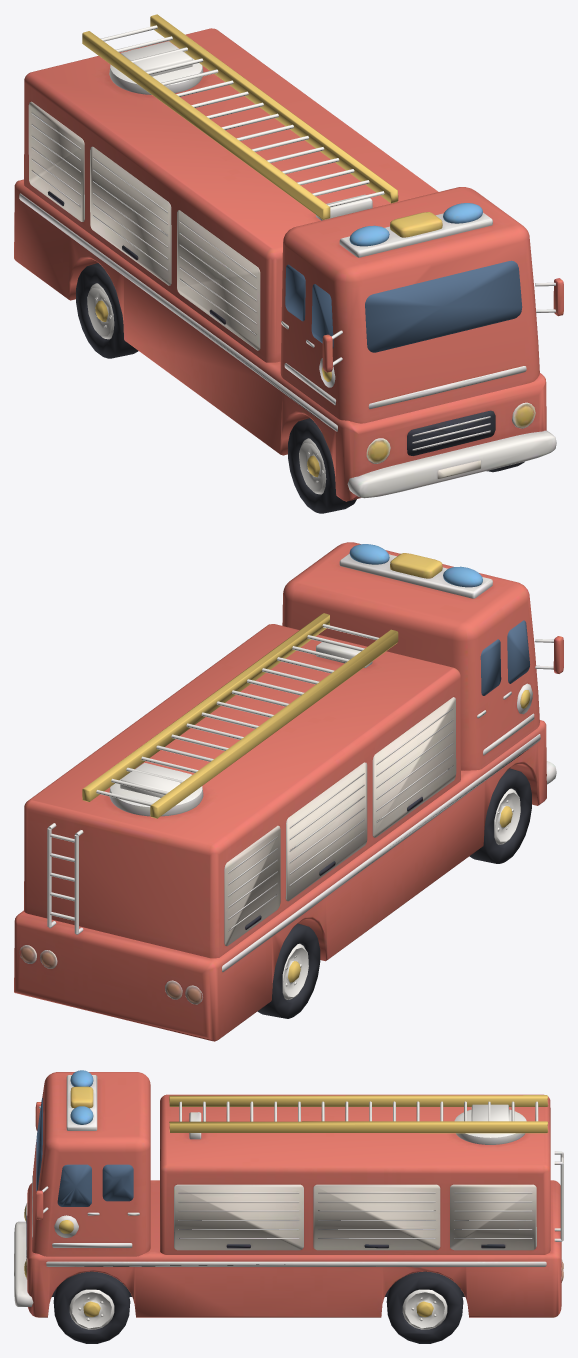
File: n_fire.glb
3 renders of one model, top to bottom at view 1: azimuth 30°, elevation 25°; view 2: azimuth 150°, elevation 25°; view 3: azimuth 270°, elevation 25°, orthographic. The views are drawn at different scales.
Visible parts, largest first — view 1: fire-truck_body, fire-truck_ladder, fire-truck_windows, fire-truck_wheel_fr, fire-truck_wheel_rr; view 2: fire-truck_body, fire-truck_ladder, fire-truck_wheel_rr, fire-truck_wheel_fr, fire-truck_windows; view 3: fire-truck_body, fire-truck_ladder, fire-truck_wheel_fl, fire-truck_wheel_rl, fire-truck_windows.
Boxes of the visible parts, x1=… form: fire-truck_body: x1=14, y1=28, x2=563, y2=501; fire-truck_ladder: x1=82, y1=14, x2=398, y2=219; fire-truck_windows: x1=285, y1=260, x2=522, y2=352; fire-truck_wheel_fr: x1=288, y1=418, x2=356, y2=513; fire-truck_wheel_rr: x1=76, y1=263, x2=138, y2=358; fire-truck_body: x1=14, y1=542, x2=563, y2=1041; fire-truck_ladder: x1=82, y1=613, x2=398, y2=818; fire-truck_wheel_rr: x1=257, y1=923, x2=320, y2=1018; fire-truck_wheel_fr: x1=469, y1=768, x2=531, y2=863; fire-truck_windows: x1=480, y1=620, x2=529, y2=695; fire-truck_body: x1=14, y1=1070, x2=563, y2=1317; fire-truck_ladder: x1=169, y1=1095, x2=548, y2=1133; fire-truck_wheel_fl: x1=53, y1=1271, x2=130, y2=1343; fire-truck_wheel_rl: x1=386, y1=1271, x2=463, y2=1343; fire-truck_windows: x1=36, y1=1098, x2=133, y2=1206.
Size of the model in its own units: 2.8 by 3.1 by 7.13.
Materials: 2 (1 with a texture image).
